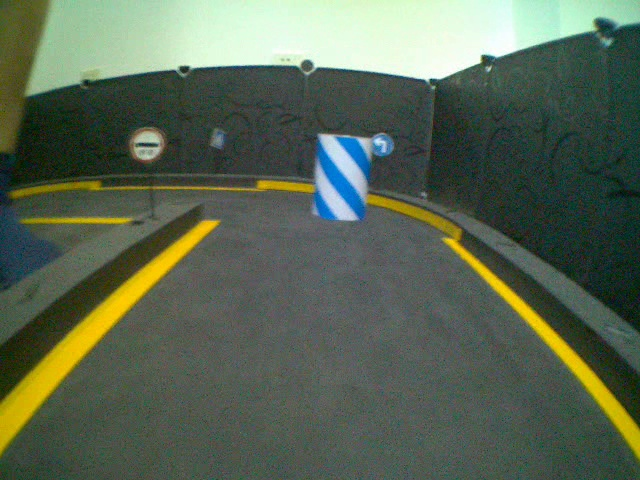bucket: (311, 132, 374, 229)
